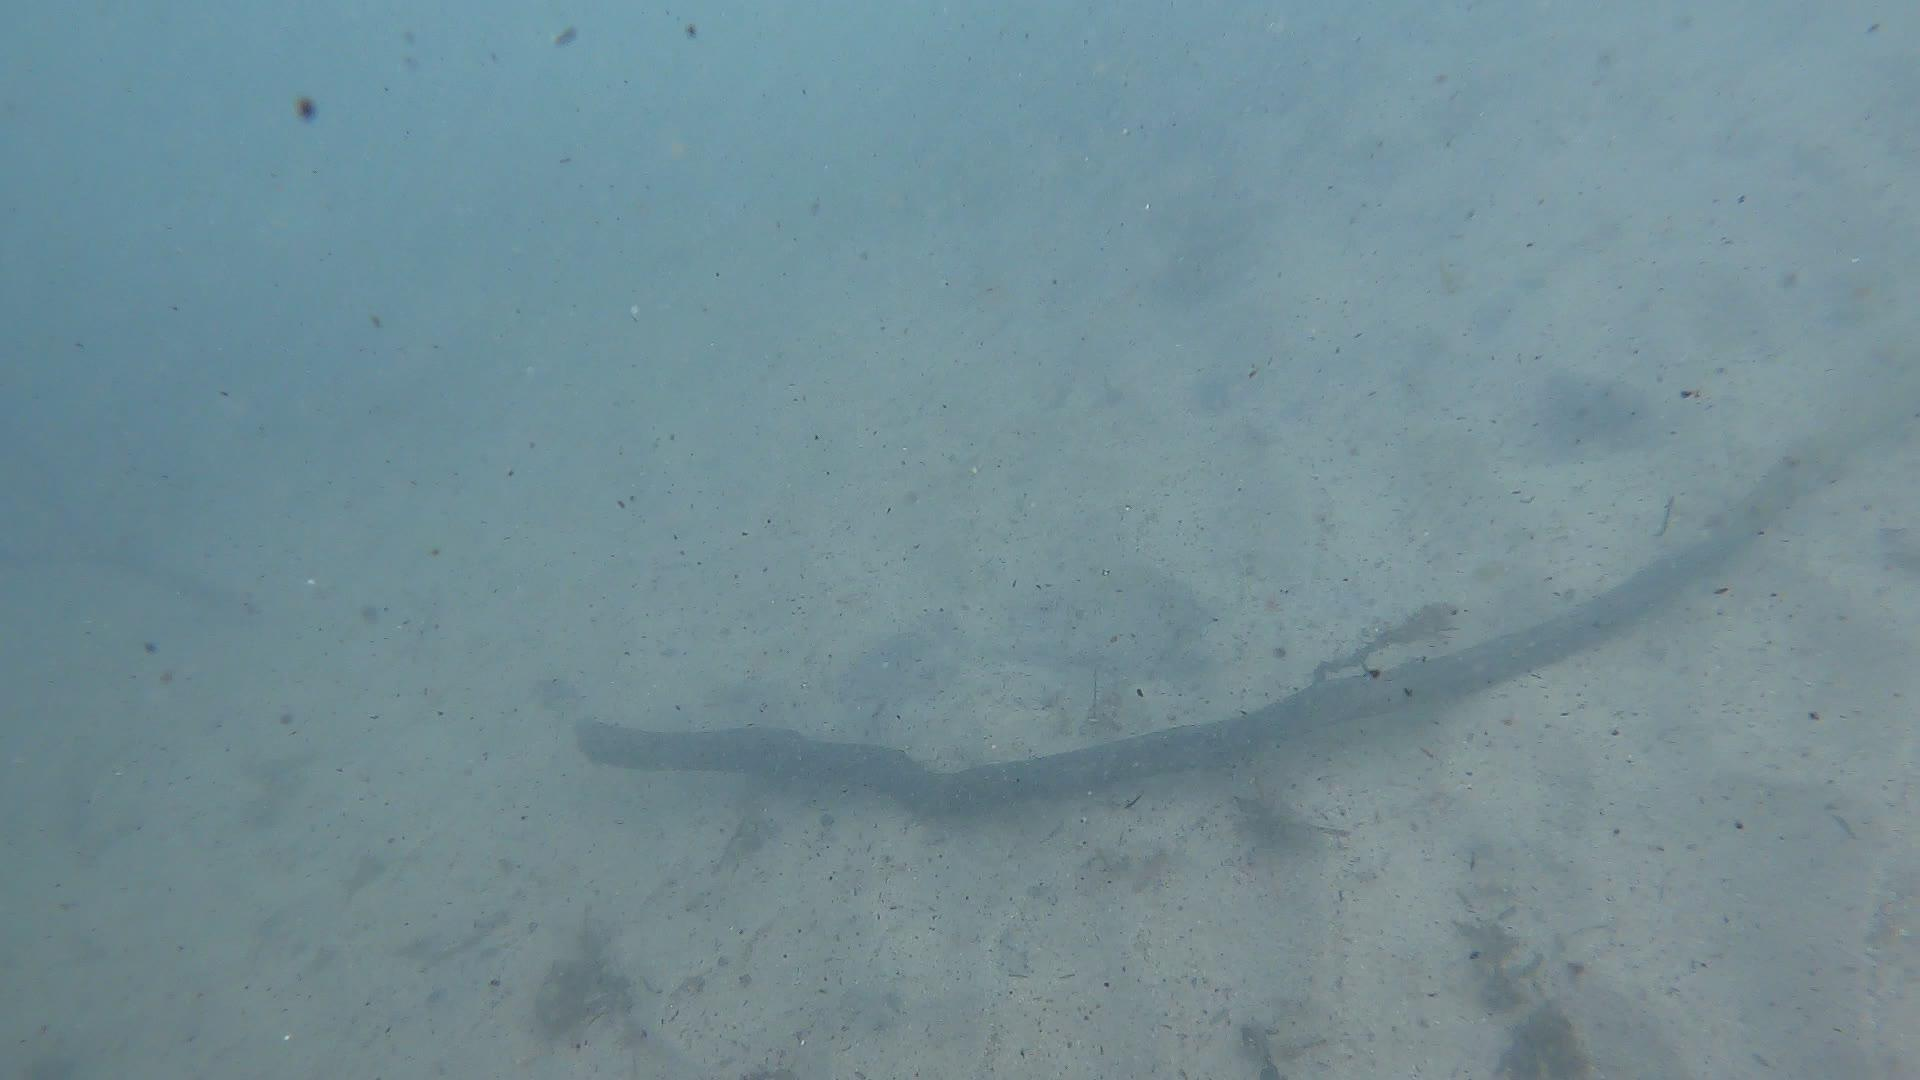wood: (572, 456, 1799, 824)
